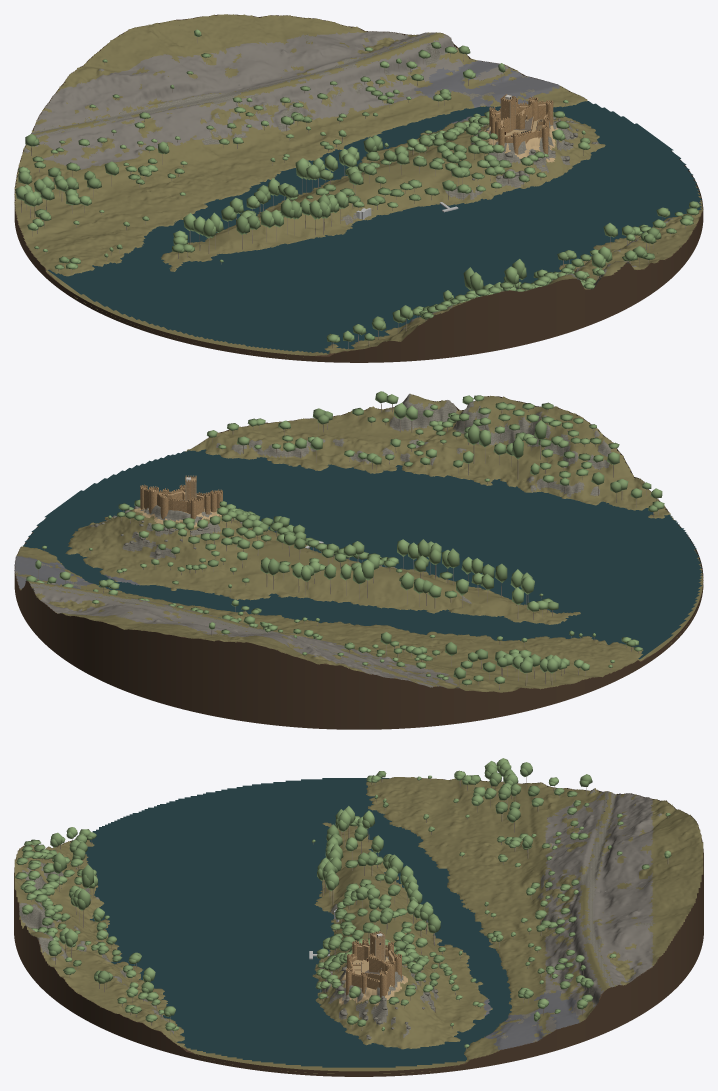
Rendered from almourol.glb.
3 views of the same model, one above another, from view 1: azimuth 30°, elevation 25°; view 2: azimuth 150°, elevation 25°; view 3: azimuth 270°, elevation 25° (orthographic).
Visible parts, largest first — view 1: Terreno, Terreno_rio, arvores, base, cubelos, cerca; view 2: Terreno, Terreno_rio, base, arvores, cubelos, cerca; view 3: Terreno, Terreno_rio, arvores, base, cubelos, cerca.
Part boxes in pixels (x1,y1,x2,y2): Terreno: (14, 14, 703, 357); Terreno_rio: (47, 101, 702, 353); arvores: (15, 29, 700, 349); base: (14, 14, 703, 362); cubelos: (489, 96, 553, 154); cerca: (492, 100, 548, 147); Terreno: (14, 393, 703, 692); Terreno_rio: (23, 449, 702, 659); base: (14, 394, 703, 729); arvores: (26, 391, 664, 689); cubelos: (140, 484, 222, 519); cerca: (144, 488, 217, 514); Terreno: (14, 777, 703, 1073); Terreno_rio: (85, 778, 511, 1067); arvores: (14, 758, 671, 1049); base: (14, 777, 703, 1076); cubelos: (346, 939, 401, 998); cerca: (349, 942, 395, 991).
Size of the model in its own units: 451 by 57.45 by 451.
Materials: 20 (5 with a texture image).
